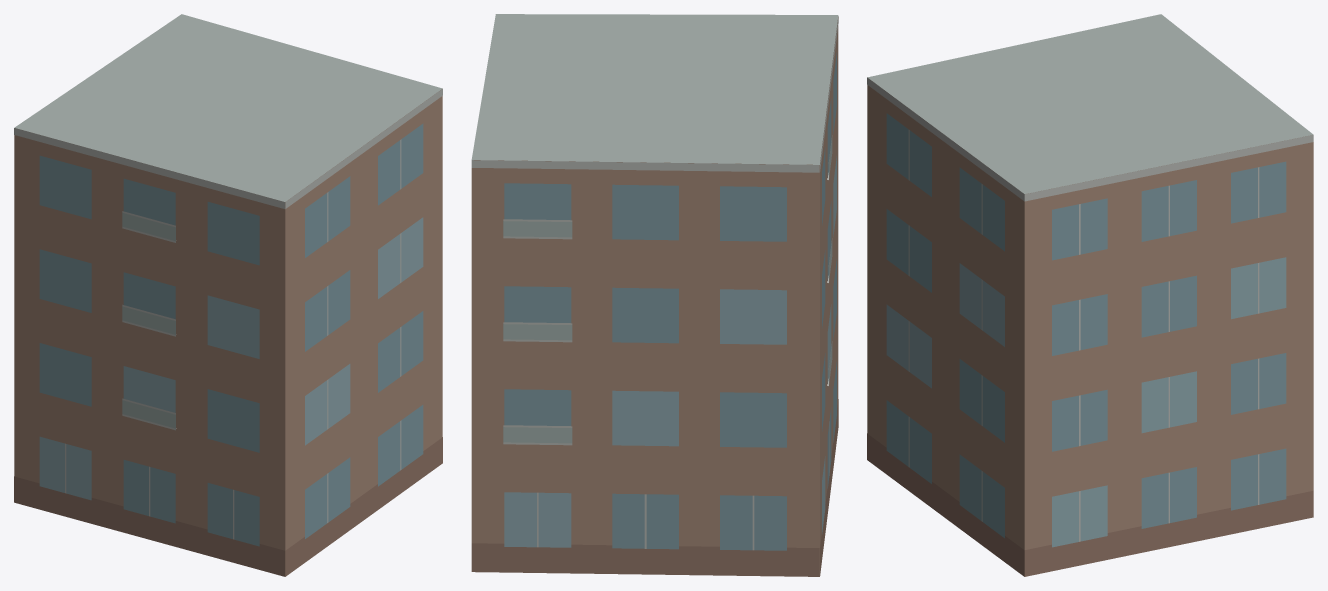
The model's file is survey-upis-33007307.glb.
3 views of the same model, side by side, from view 1: azimuth 30°, elevation 25°; view 2: azimuth 150°, elevation 25°; view 3: azimuth 270°, elevation 25° (orthographic). The views are drawn at different scales.
Visible parts, largest first — view 1: survey-upis-33007307.tmp; view 2: survey-upis-33007307.tmp; view 3: survey-upis-33007307.tmp.
Part boxes in pixels (x1,y1,x2,y2): survey-upis-33007307.tmp: (14, 14, 442, 576); survey-upis-33007307.tmp: (471, 14, 838, 576); survey-upis-33007307.tmp: (867, 14, 1313, 576).
Size of the model in its own units: 12.94 by 12.8 by 13.54.
